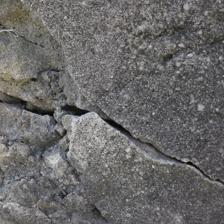Crack: (70, 0, 214, 89), (109, 38, 194, 78)
